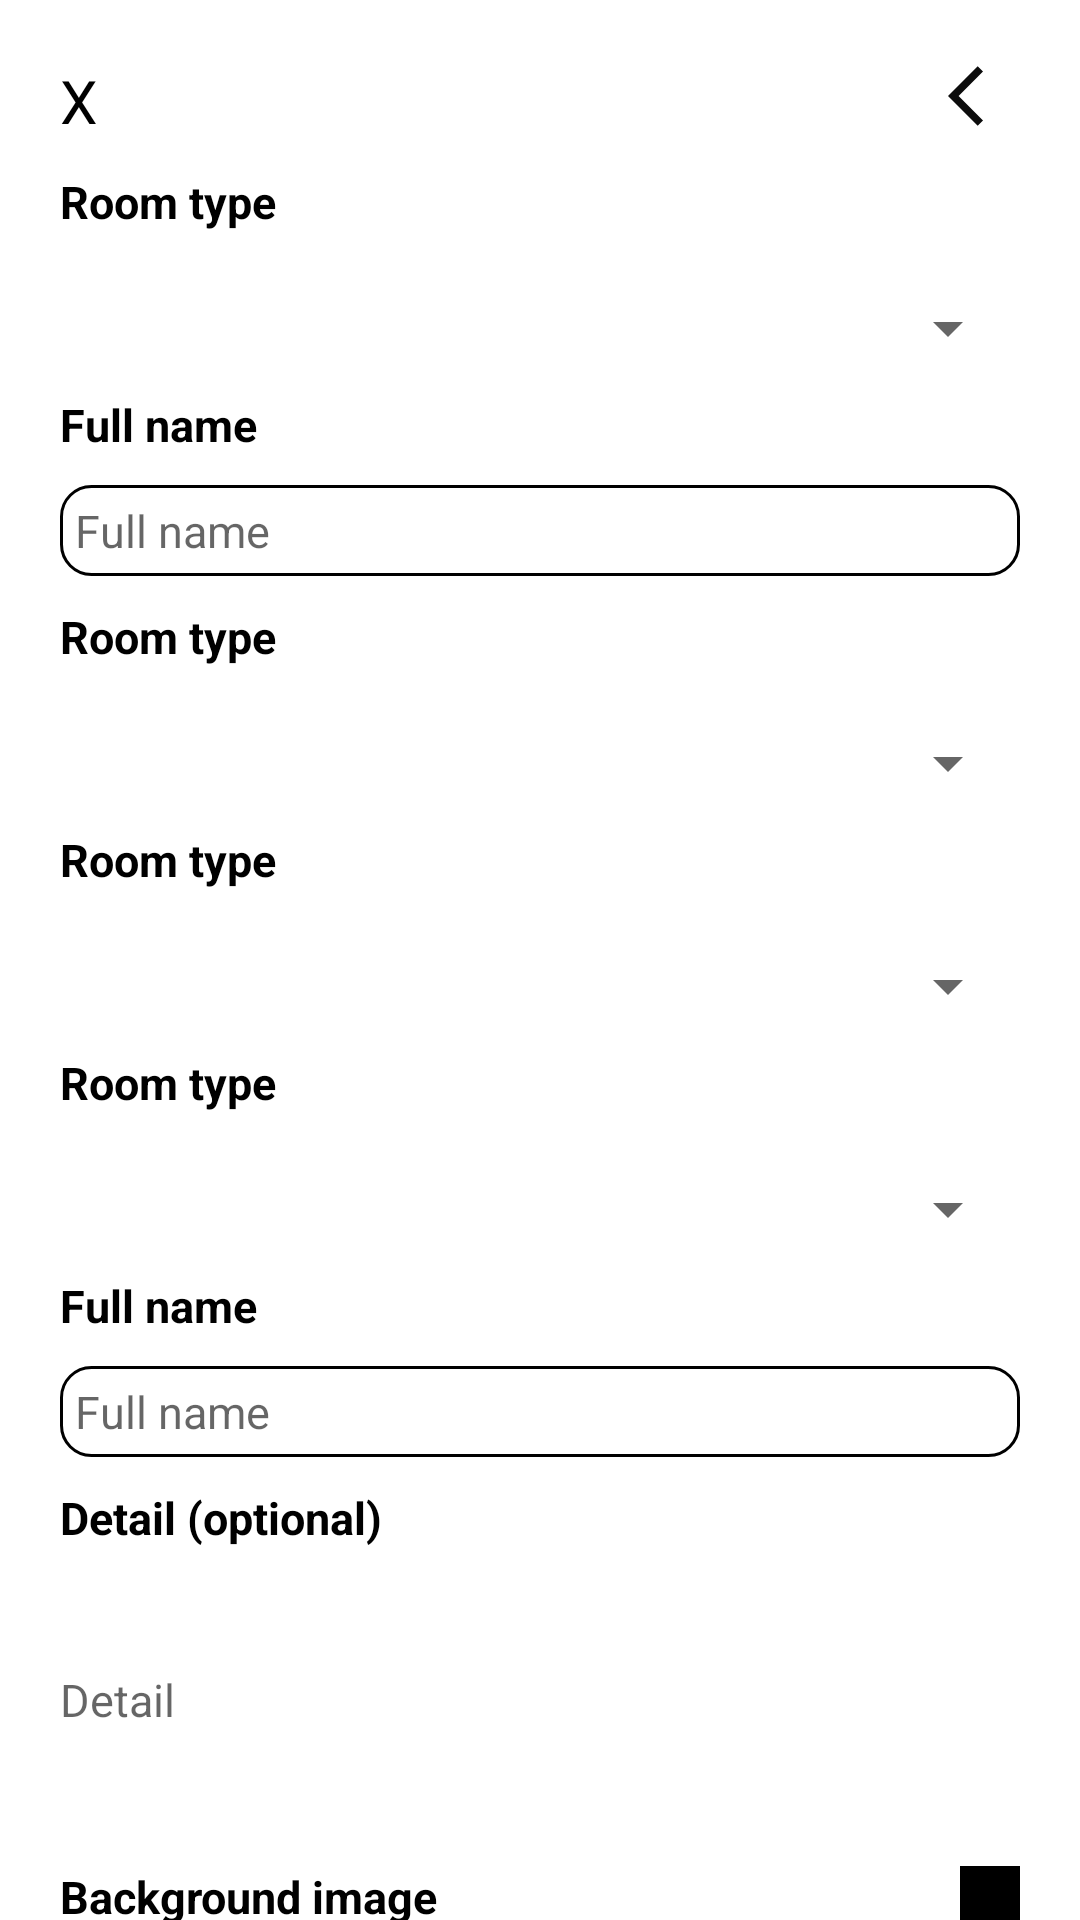

Icon click points for this 1080x1920 phone screenshot, format [x,y]:
back: [965,96]
